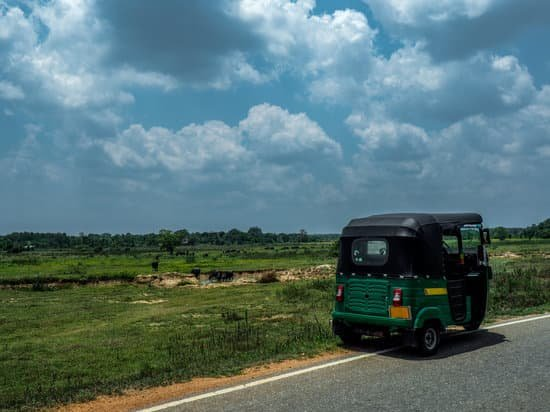threewheel: (328, 212, 493, 359)
